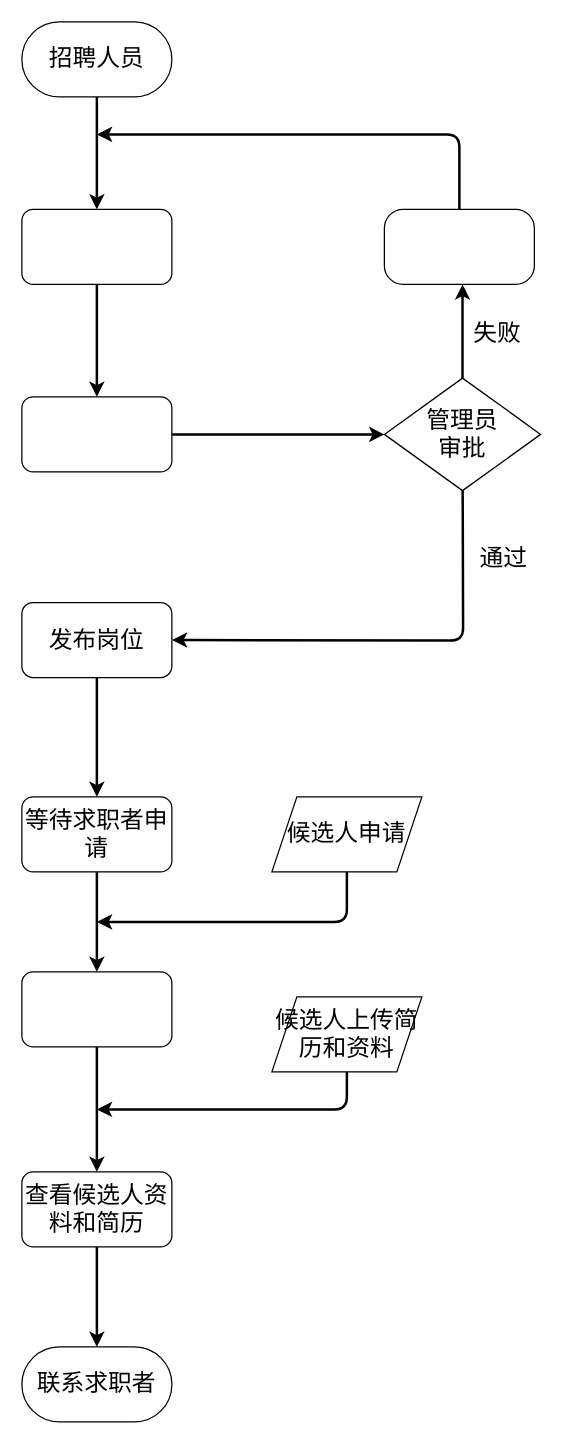
This 563x1444 diagram has some shape labels left out. Here are the shapes that lost their labels. From the top down, the centre of each, then its label:
the point at 96,246: 填写岗位信息
the point at 458,246: 联系修改
the point at 96,434: 提交岗位申请
the point at 96,1009: 查看候选人名单
